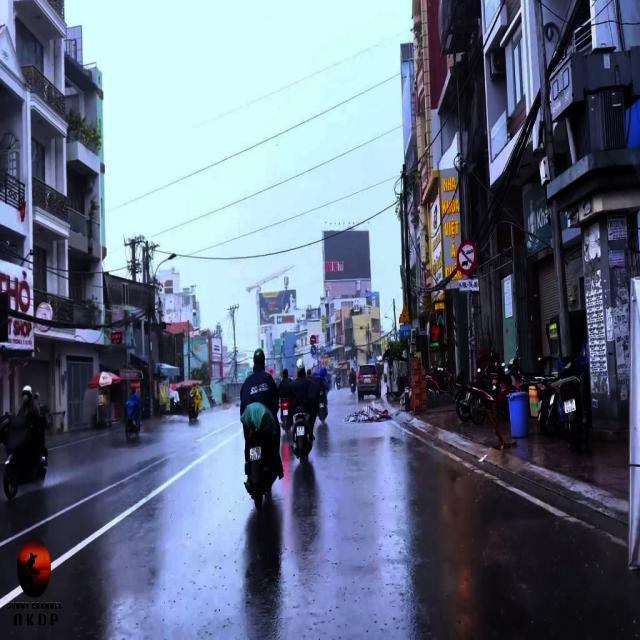107-cam-oto-khach-va-oto-tai: (457, 240, 479, 278)
